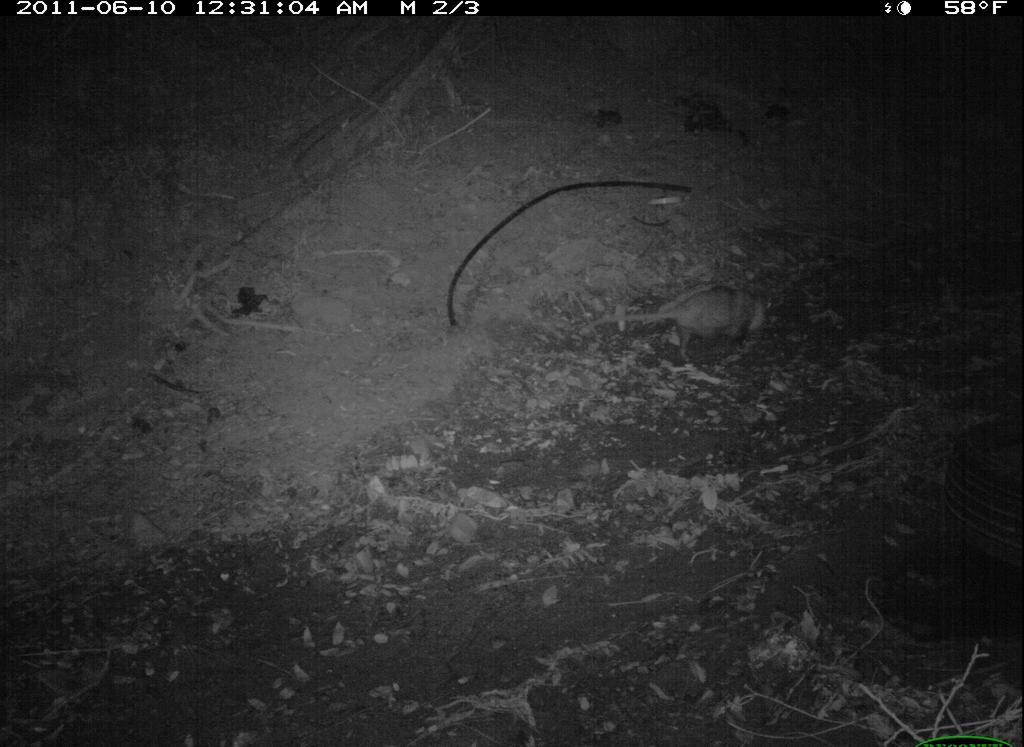opossum: (584, 278, 779, 360)
